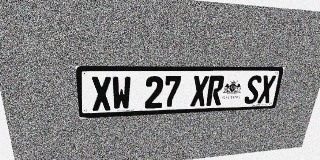2: (145, 76, 164, 109)
7: (162, 76, 181, 108)
R: (206, 76, 225, 106)
S: (243, 75, 263, 104)
W: (112, 76, 131, 110)
X: (91, 76, 112, 111), (190, 76, 209, 107), (257, 75, 276, 103)
